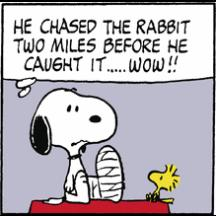snoopy: (28, 84, 126, 206)
